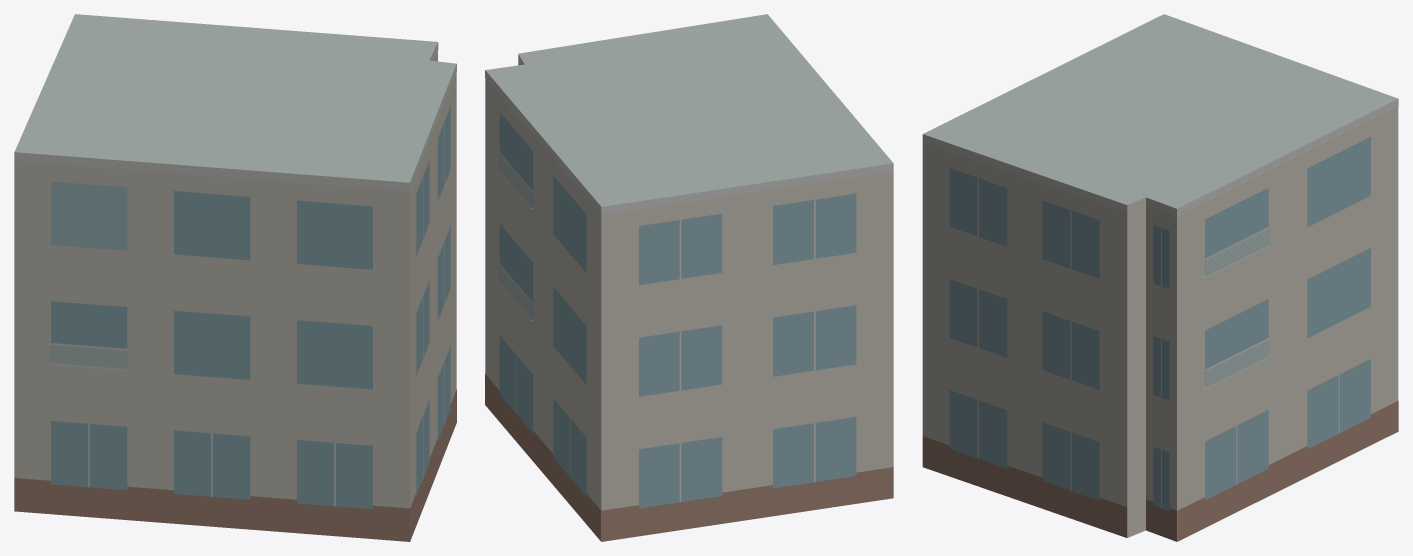
The model's file is survey-upis-32676861.glb.
3 renders of one model, left to right at view 1: azimuth 30°, elevation 25°; view 2: azimuth 150°, elevation 25°; view 3: azimuth 270°, elevation 25°, orthographic. The views are drawn at different scales.
Parts seen in each view (by area): view 1: survey-upis-32676861.tmp; view 2: survey-upis-32676861.tmp; view 3: survey-upis-32676861.tmp.
Boxes of the visible parts, <box> form: survey-upis-32676861.tmp: <box>14,14,456,541</box>; survey-upis-32676861.tmp: <box>485,14,893,541</box>; survey-upis-32676861.tmp: <box>922,14,1398,541</box>.
Size of the model in its own units: 12.81 by 10.2 by 13.22.
